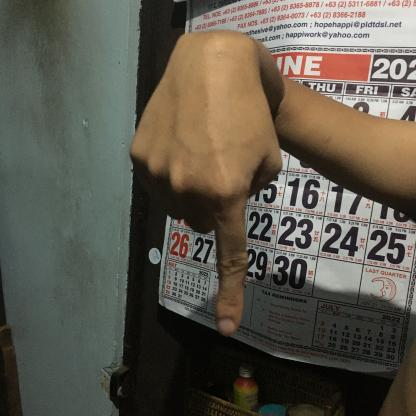here: (128, 21, 293, 342)
